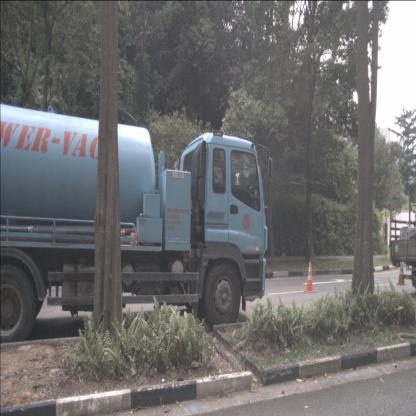cone: (303, 261, 317, 293), (396, 260, 407, 286)
